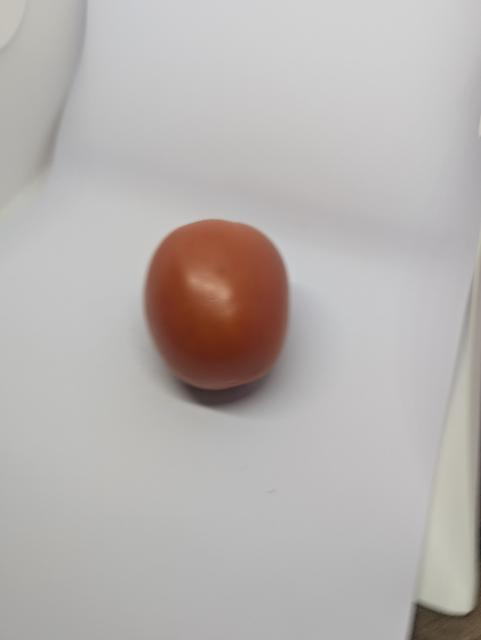red: (123, 205, 310, 403)
